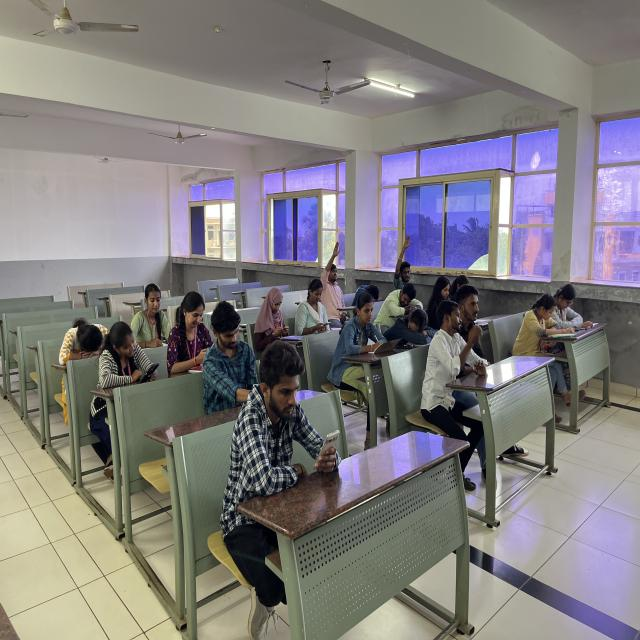Hand Rising: (318, 236, 356, 304), (390, 224, 430, 288)
Reading: (511, 291, 577, 360)
Sleeping: (49, 308, 115, 365), (352, 275, 388, 305)
Using Phone: (217, 334, 365, 548), (92, 318, 167, 392), (250, 281, 298, 342), (297, 274, 339, 336)
